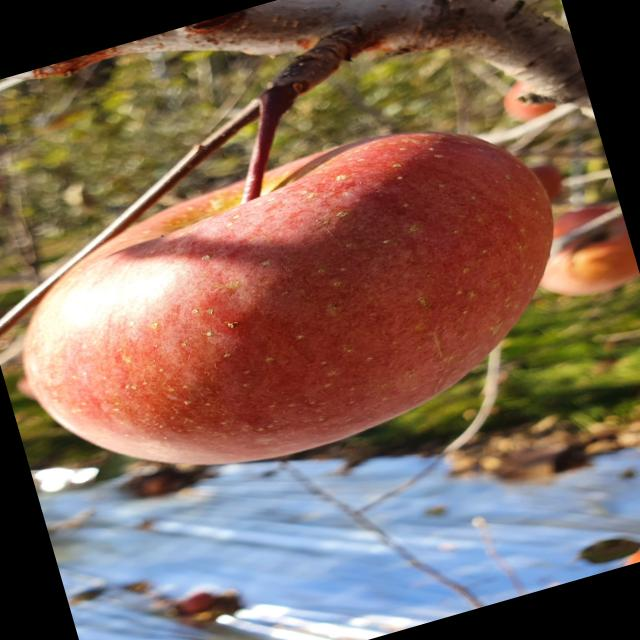fresh: (1, 83, 610, 532)
